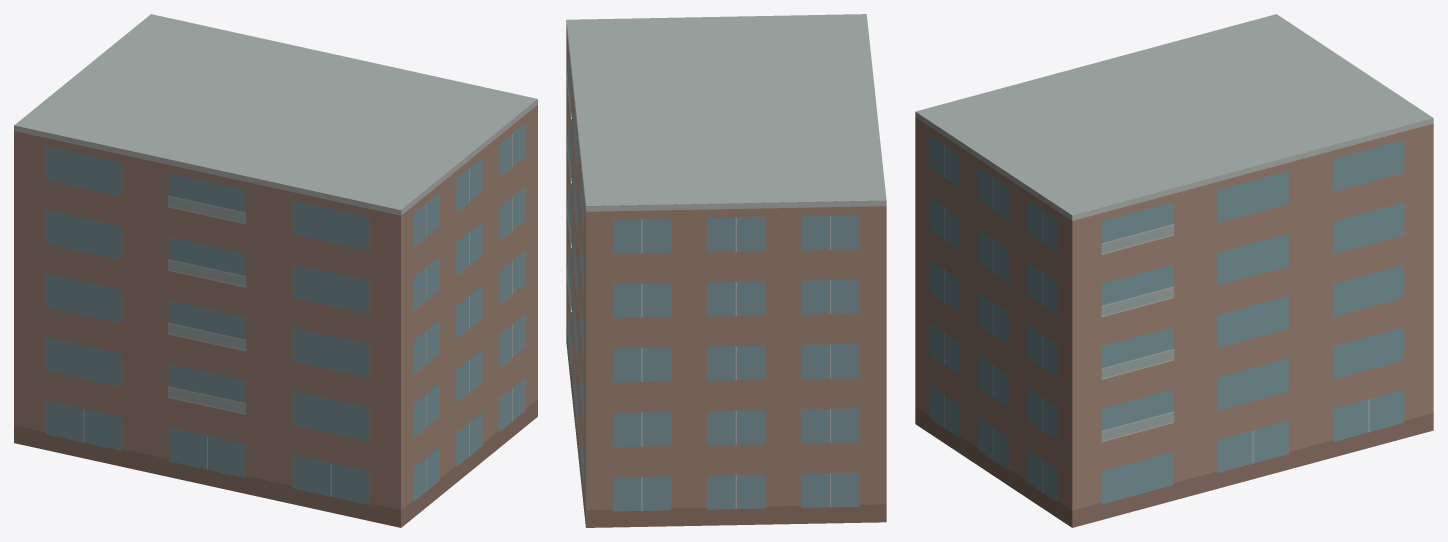
The model's file is residential-b0650071-008d-4436-9033-0d7be255c1eb.glb.
The picture shows the model from 3 angles, left to right: view 1: azimuth 30°, elevation 25°; view 2: azimuth 150°, elevation 25°; view 3: azimuth 270°, elevation 25°; orthographic projection. The views are drawn at different scales.
Parts seen in each view (by area): view 1: residential-b0650071-008d-4436-9033-0d7be255c1eb.tmp; view 2: residential-b0650071-008d-4436-9033-0d7be255c1eb.tmp; view 3: residential-b0650071-008d-4436-9033-0d7be255c1eb.tmp.
Boxes of the visible parts, left/top/right/bottom form: residential-b0650071-008d-4436-9033-0d7be255c1eb.tmp: left=14, top=14, right=537, bottom=527; residential-b0650071-008d-4436-9033-0d7be255c1eb.tmp: left=566, top=14, right=886, bottom=527; residential-b0650071-008d-4436-9033-0d7be255c1eb.tmp: left=915, top=14, right=1433, bottom=527.
Bounding box in the file's own units: 19.17 × 13.85 × 20.84.
